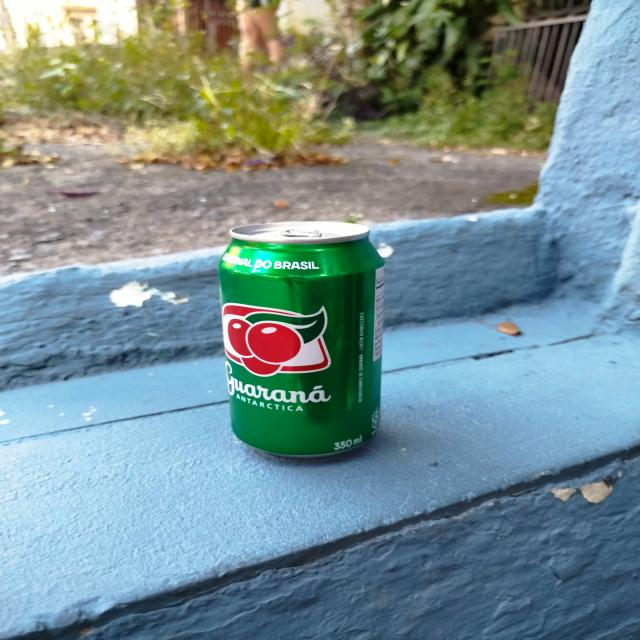Guarana: (224, 222, 392, 456)
